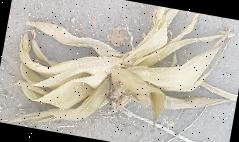organic: (10, 0, 239, 142)
